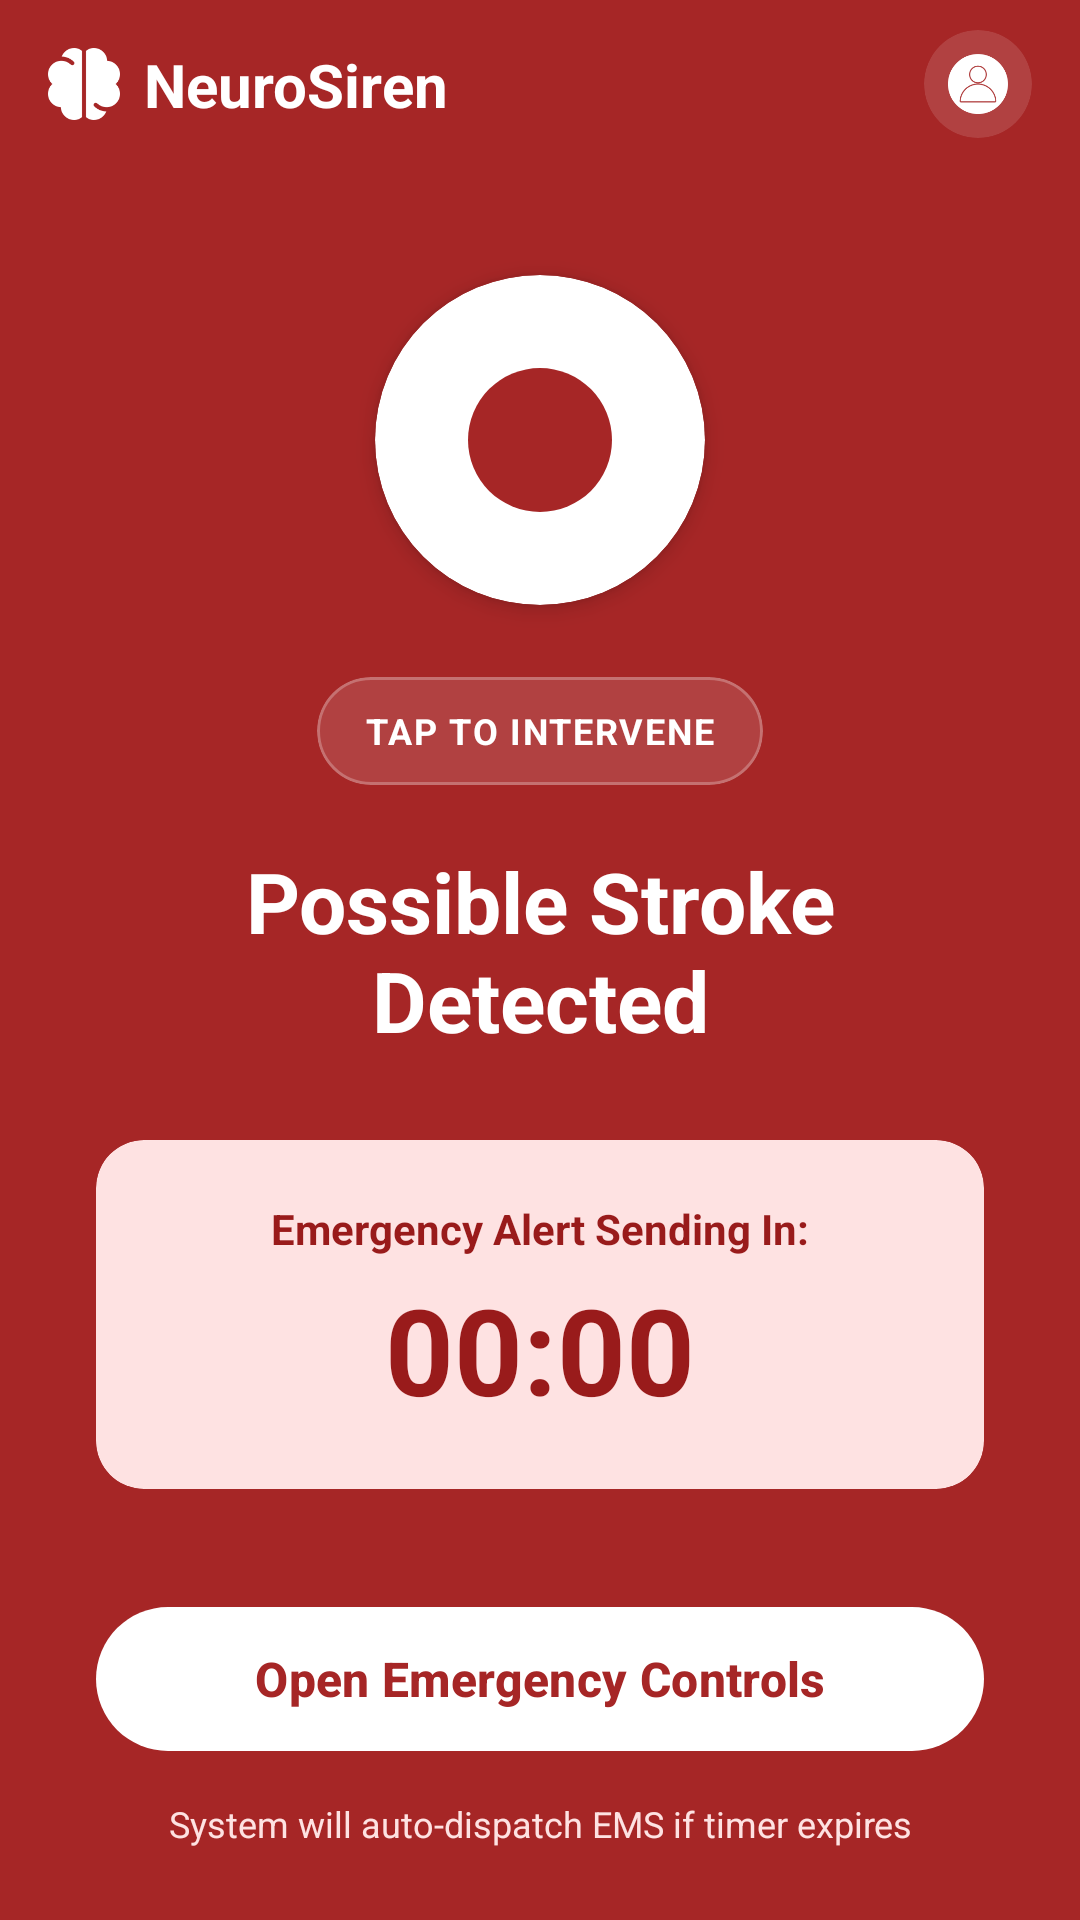

Locate icon controls on the screen. Image size 1080w x 1920h, boxes as (x1, y1, x2, y2).
profile: (948, 54, 1008, 114)
